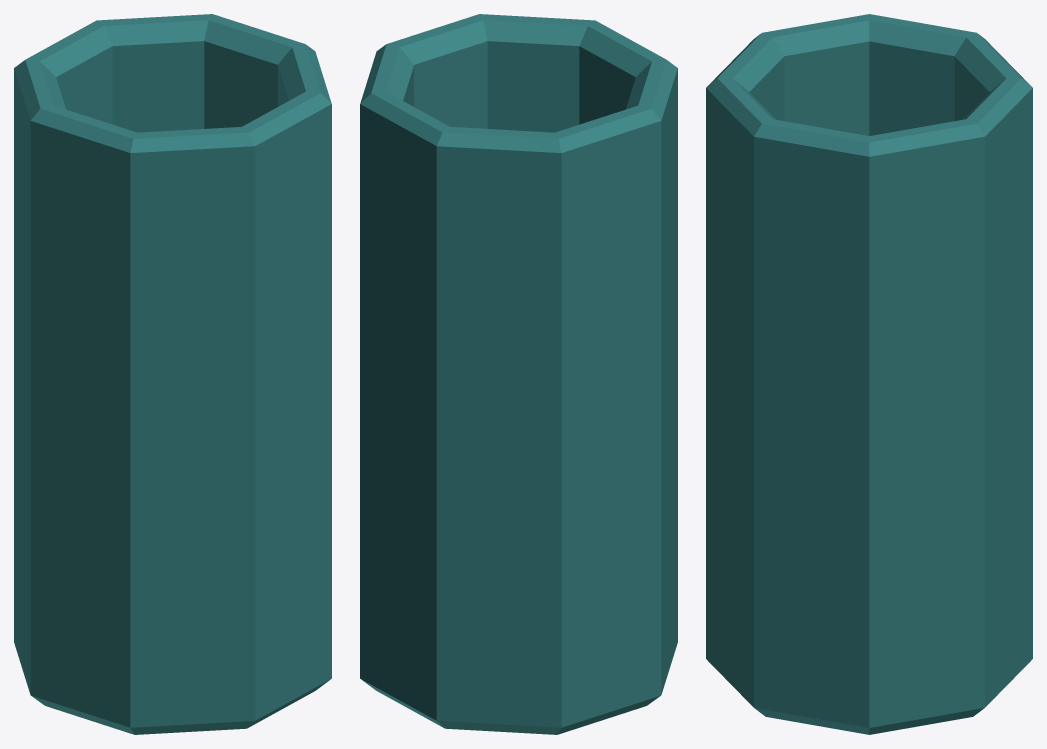
The model's file is glass_cap.gltf.
3 views of the same model, side by side, from view 1: azimuth 30°, elevation 25°; view 2: azimuth 150°, elevation 25°; view 3: azimuth 270°, elevation 25° (orthographic).
Visible parts, largest first — view 1: Glass; view 2: Glass; view 3: Glass.
Boxes of the visible parts, bbox=[...] form: Glass: bbox=[14, 14, 331, 734]; Glass: bbox=[360, 14, 677, 734]; Glass: bbox=[706, 14, 1032, 734].
Size of the model in its own units: 0.4328 by 0.8686 by 0.4328.
